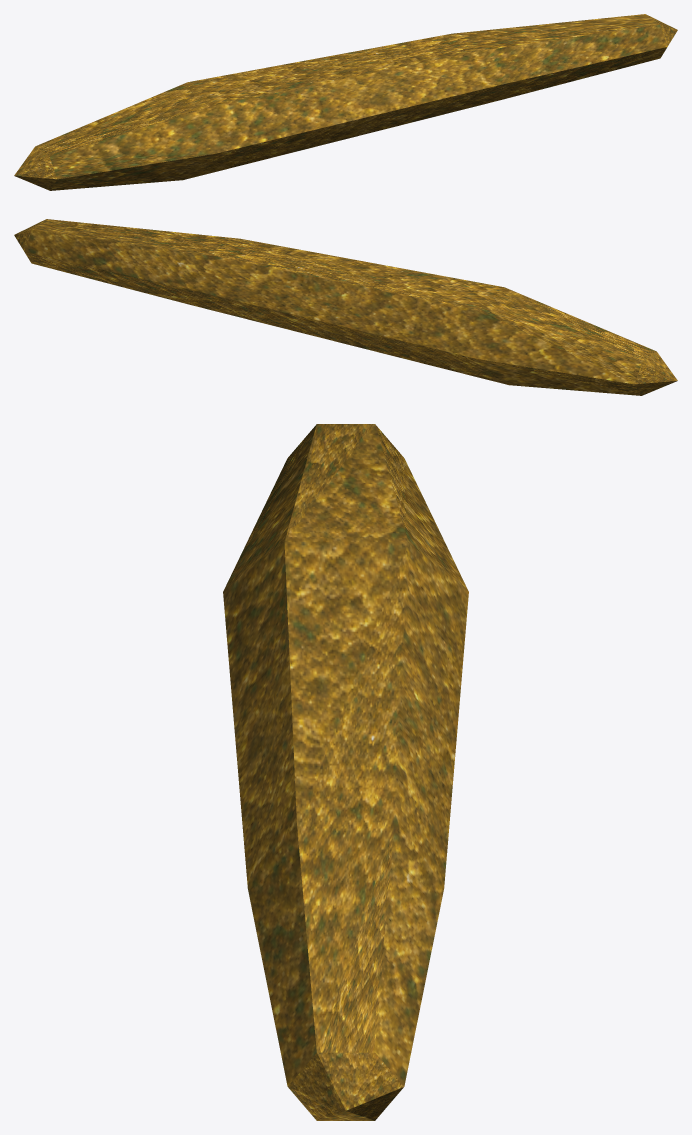
Rendered from mm9_deco_relic.glb.
3 views of the same model, one above another, from view 1: azimuth 30°, elevation 25°; view 2: azimuth 150°, elevation 25°; view 3: azimuth 270°, elevation 25° (orthographic). The views are drawn at different scales.
Parts seen in each view (by area): view 1: Relic; view 2: Relic; view 3: Relic.
Part boxes in pixels (left/top/right/bottom): Relic: left=14, top=14, right=677, bottom=190; Relic: left=14, top=219, right=677, bottom=395; Relic: left=223, top=424, right=468, bottom=1120.
Size of the model in its own units: 0.1198 by 0.012 by 0.0192.
1 material, 1 textured.
